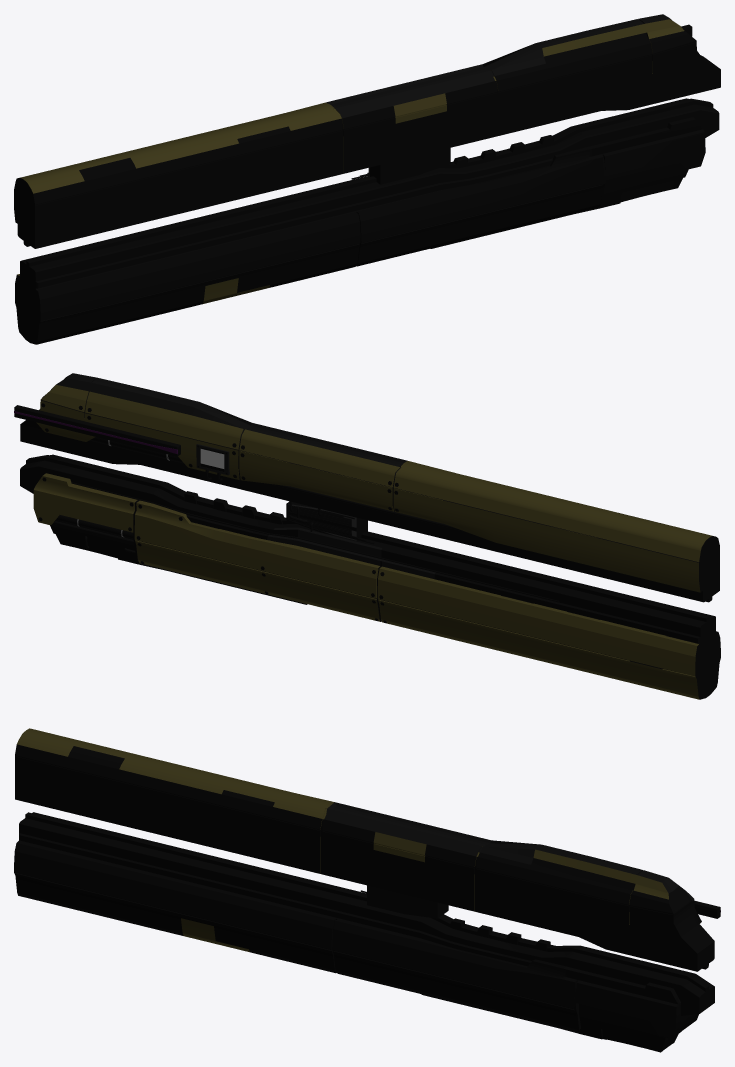
Rendered from RailGun_Body.fbx.
3 views of the same model, one above another, from view 1: azimuth 30°, elevation 25°; view 2: azimuth 150°, elevation 25°; view 3: azimuth 330°, elevation 25° (orthographic).
Visible parts, largest first — view 1: pCylinder92; view 2: pCylinder92; view 3: pCylinder92.
Part boxes in pixels (bbox=[...]): pCylinder92: bbox=[14, 14, 720, 344]; pCylinder92: bbox=[14, 373, 720, 699]; pCylinder92: bbox=[14, 728, 720, 1052].
Size of the model in its own units: 35.98 by 8.67 by 2.83.
